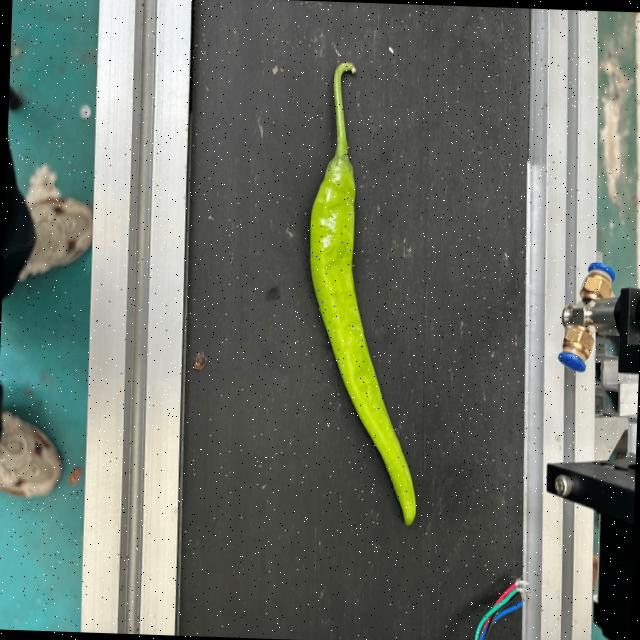chili: (306, 149, 416, 529)
